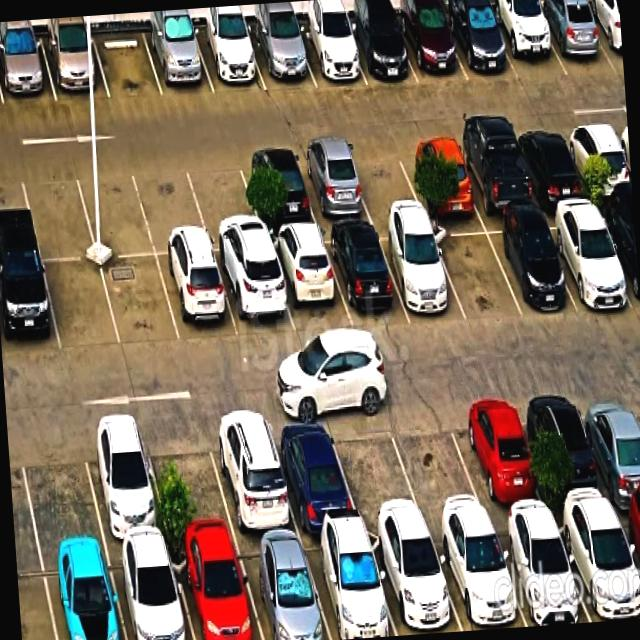empty: (385, 398, 489, 525), (326, 405, 425, 525), (141, 418, 236, 543), (15, 422, 104, 552), (429, 220, 521, 320), (183, 152, 265, 251), (73, 161, 155, 257), (132, 158, 211, 254), (18, 164, 96, 259), (100, 255, 180, 347), (43, 260, 120, 351), (344, 141, 423, 218), (92, 29, 162, 98)
occupied: (450, 393, 548, 519), (204, 408, 299, 537), (522, 388, 614, 514), (265, 410, 360, 532), (78, 419, 169, 545), (491, 517, 590, 626), (429, 521, 527, 631), (301, 531, 396, 640), (366, 528, 462, 635), (234, 537, 331, 640), (553, 509, 640, 622), (540, 205, 634, 309), (169, 540, 262, 640), (482, 216, 575, 315), (321, 225, 409, 327), (266, 230, 351, 335), (375, 223, 466, 320), (107, 544, 193, 640), (575, 386, 640, 508), (41, 548, 125, 640), (157, 252, 238, 342), (213, 249, 295, 337), (452, 132, 536, 213), (237, 148, 318, 230), (293, 145, 372, 224), (487, 5, 567, 81), (532, 3, 616, 75), (399, 137, 480, 211), (0, 257, 60, 356), (511, 126, 588, 203), (394, 8, 467, 84), (442, 7, 517, 80), (562, 122, 632, 197), (343, 15, 417, 84), (143, 27, 214, 96), (192, 27, 266, 93), (595, 203, 640, 309), (40, 32, 109, 101), (293, 21, 366, 86), (247, 24, 315, 89), (0, 36, 56, 105), (582, 0, 623, 71), (614, 506, 640, 579)
